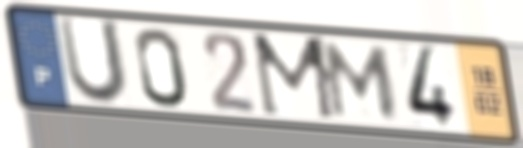0: (130, 24, 192, 110)
2: (201, 30, 259, 116)
4: (404, 41, 460, 132)
M: (247, 30, 342, 125), (321, 39, 401, 121)
U: (54, 13, 131, 109)
